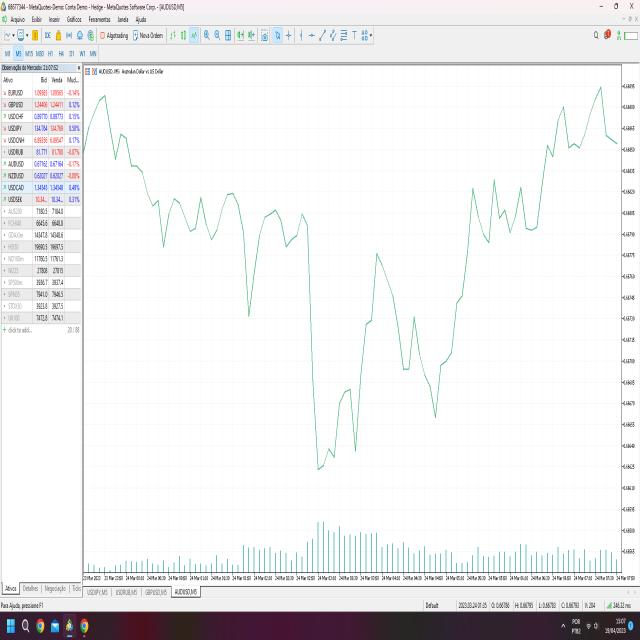bandeira_alta: (431, 158, 531, 438)
fundo_duplo: (301, 140, 379, 501)
